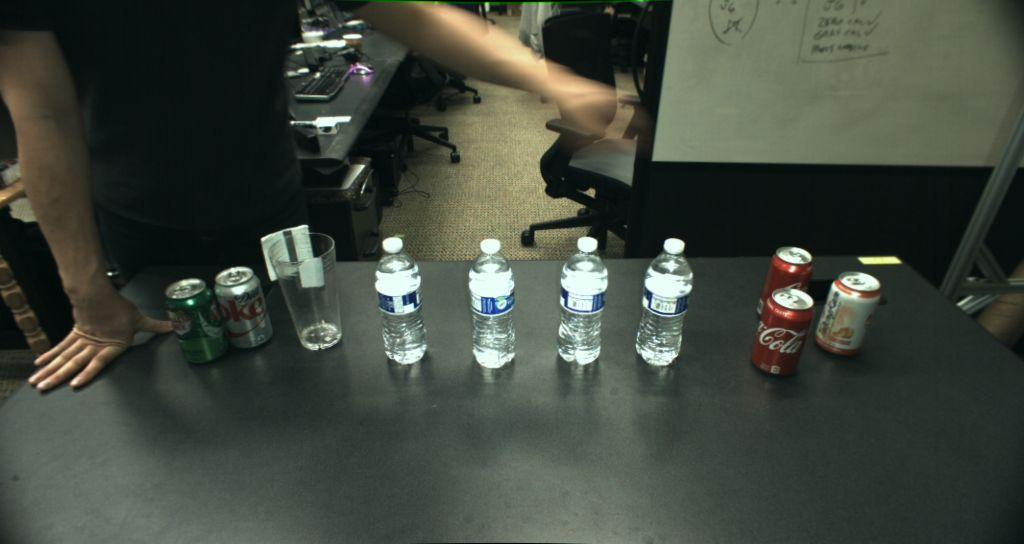can_coke: (751, 286, 814, 375)
can_diet_coke: (214, 267, 273, 349)
can_ginger_ale: (164, 278, 230, 364)
can_talking_rain_peach_nectarine: (814, 270, 881, 357)
water_bottle: (635, 238, 693, 366), (375, 237, 427, 364), (557, 237, 608, 365), (469, 239, 515, 368)
